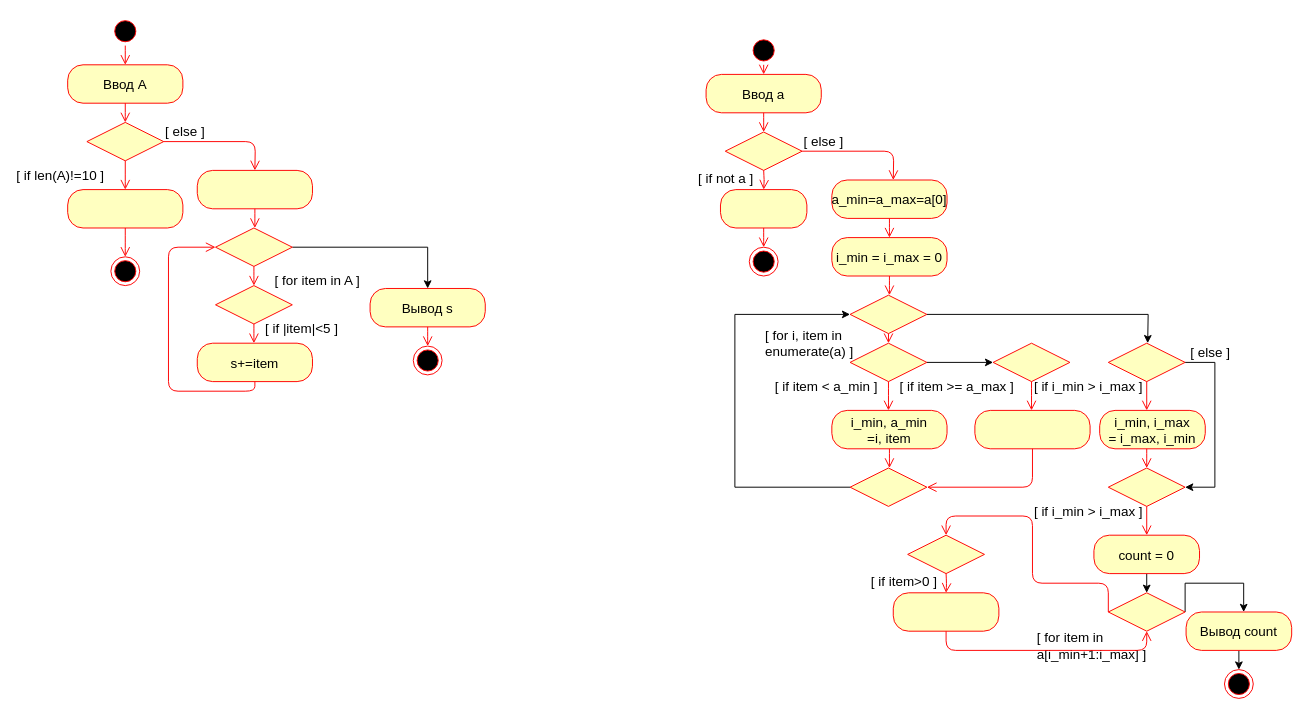
Some shapes in this 1308 by 715 pixel diagram are drawn without their labels. The shapes that lost their labels are listed below. From the top down, each one's box as (x1, y1, x2, y2) in pixels, then its label:
(67, 189, 183, 228): "Неверный размер списка"
(196, 169, 312, 209): s=0
(720, 189, 807, 228): "Заданный список пуст"
(974, 409, 1090, 449): i_max,a_max =i,item
(892, 592, 999, 631): count += 0
